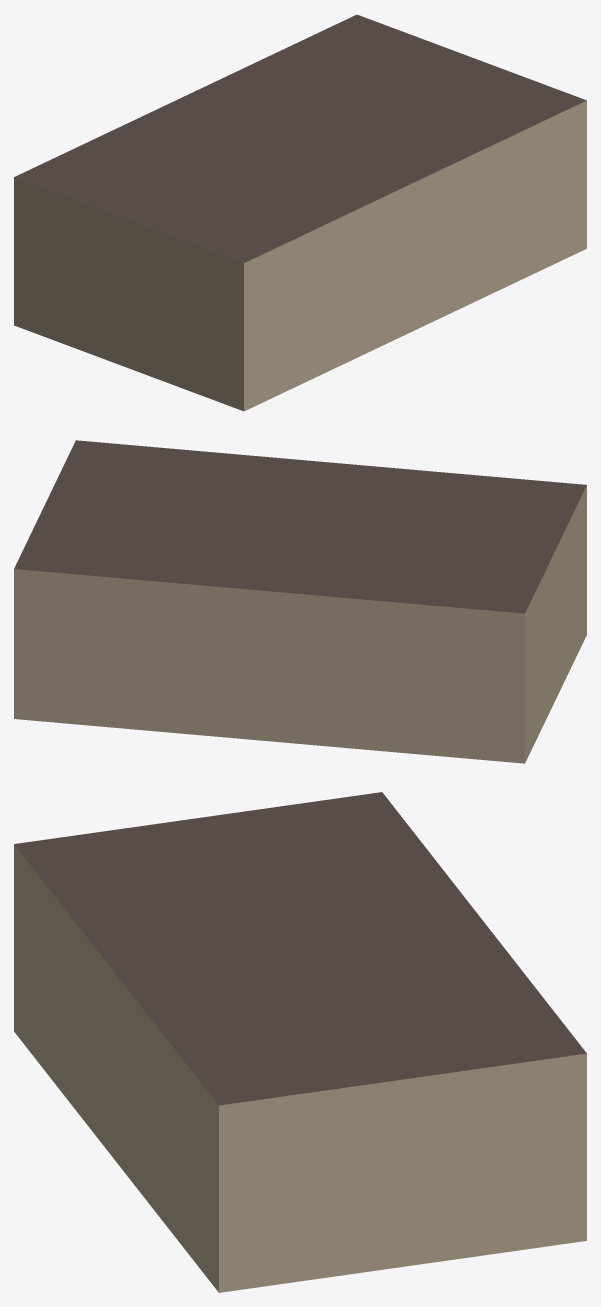
3 views of the same model, one above another, from view 1: azimuth 30°, elevation 25°; view 2: azimuth 150°, elevation 25°; view 3: azimuth 270°, elevation 25° (orthographic). The views are drawn at different scales.
Visible parts, largest first — view 1: HP-w756801880; view 2: HP-w756801880; view 3: HP-w756801880.
Boxes of the visible parts, box(x1,y1,x2,y2) form: HP-w756801880: box(14, 14, 586, 411); HP-w756801880: box(14, 440, 586, 763); HP-w756801880: box(14, 792, 586, 1292).
Bounding box in the file's own units: 32.3 × 9 × 24.95.
